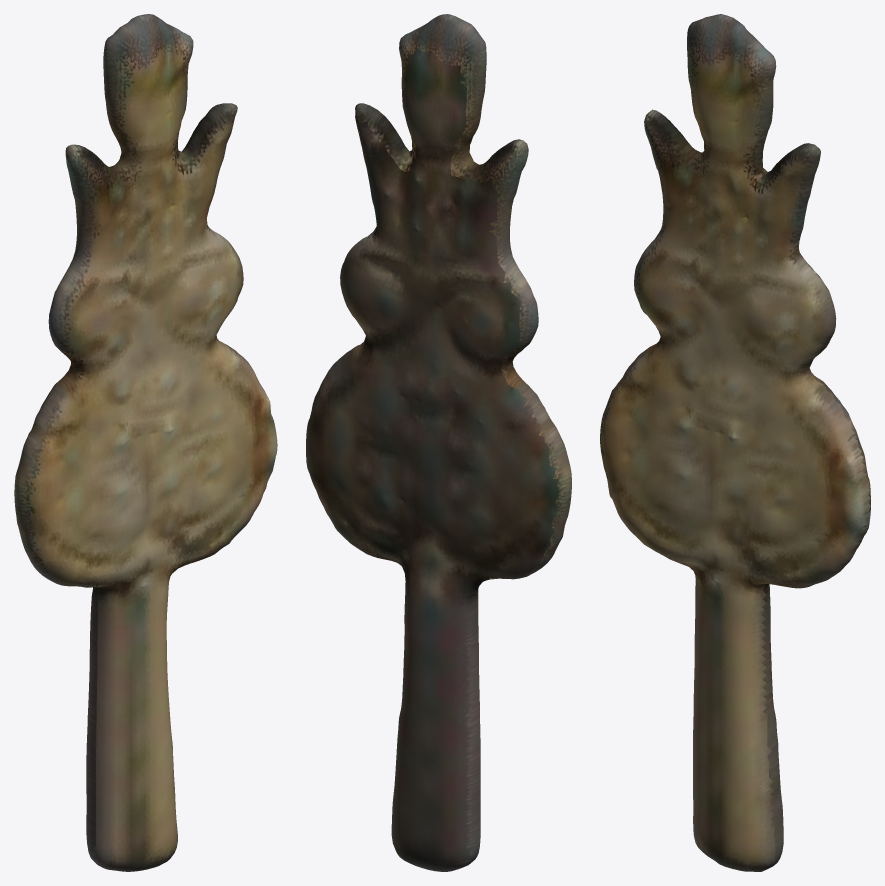
File: kfl-2299.glb
The picture shows the model from 3 angles, left to right: view 1: azimuth 30°, elevation 25°; view 2: azimuth 150°, elevation 25°; view 3: azimuth 330°, elevation 25°; orthographic projection. The views are drawn at different scales.
Parts seen in each view (by area): view 1: geometry_0; view 2: geometry_0; view 3: geometry_0.
Part boxes in pixels (<box>): geometry_0: <box>14,14,277,871</box>; geometry_0: <box>306,14,571,871</box>; geometry_0: <box>600,14,870,871</box>.
Bounding box in the file's own units: 0.3155 × 0.9905 × 0.0804.
Materials: 1 (1 with a texture image).
